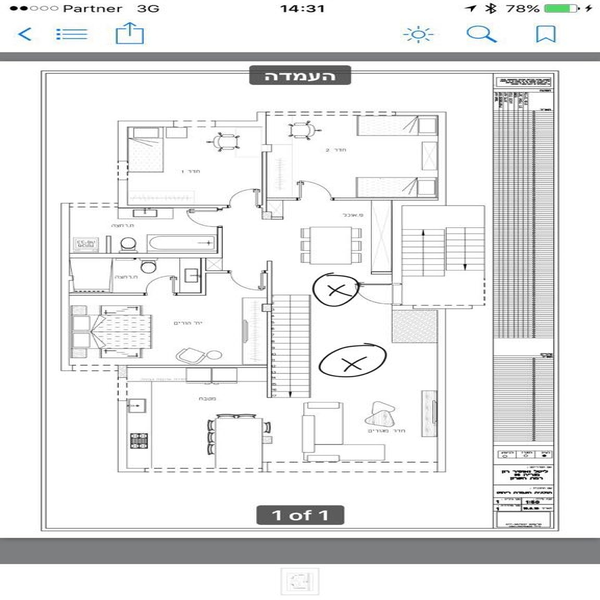door: (352, 280, 405, 310), (296, 174, 337, 207), (226, 269, 268, 298), (187, 209, 230, 235), (229, 184, 262, 211), (145, 273, 176, 297)
room: (59, 201, 272, 386), (267, 304, 452, 477), (262, 112, 451, 211), (116, 364, 277, 473), (118, 118, 269, 210)
wall: (436, 309, 446, 473), (60, 203, 69, 369), (391, 204, 402, 304), (117, 122, 128, 218), (118, 367, 127, 469), (438, 114, 447, 205), (127, 120, 170, 128), (219, 122, 267, 127)
